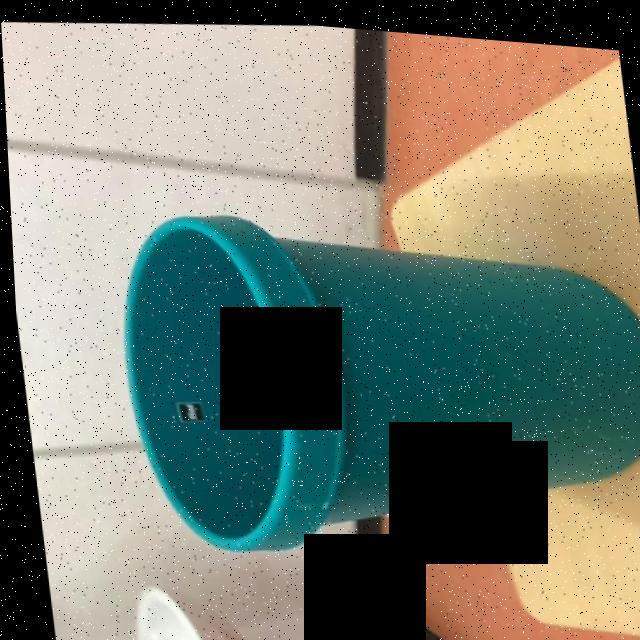bin: (72, 153, 640, 592)
